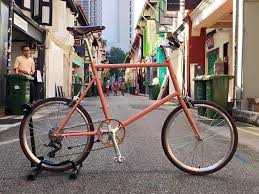bicycle: (15, 20, 242, 180)
